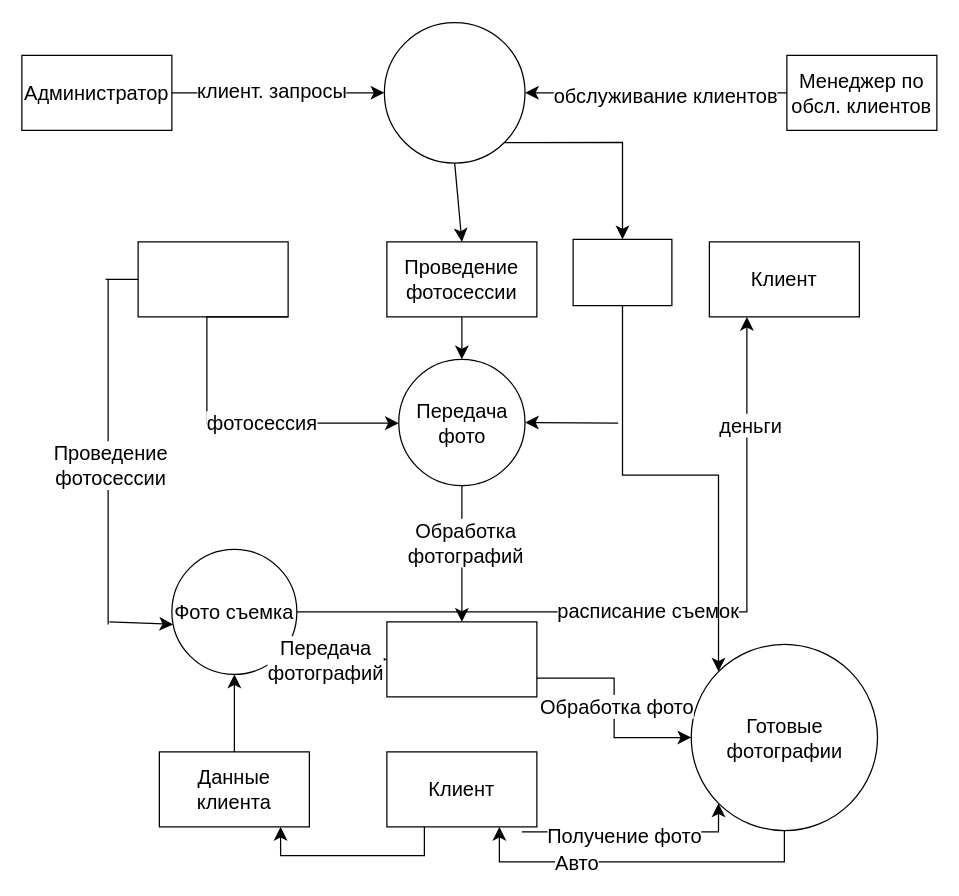
Some shapes in this 959 by 896 pixel diagram are drawn without their labels. The box of each missing label's shape, as (x1, y1, x2, y2) in pixels:
Редактор: (386, 621, 537, 697)
Редактор фото: (572, 238, 672, 306)
управление клиентскими запросами: (383, 21, 525, 163)
Фотограф: (137, 241, 288, 317)
